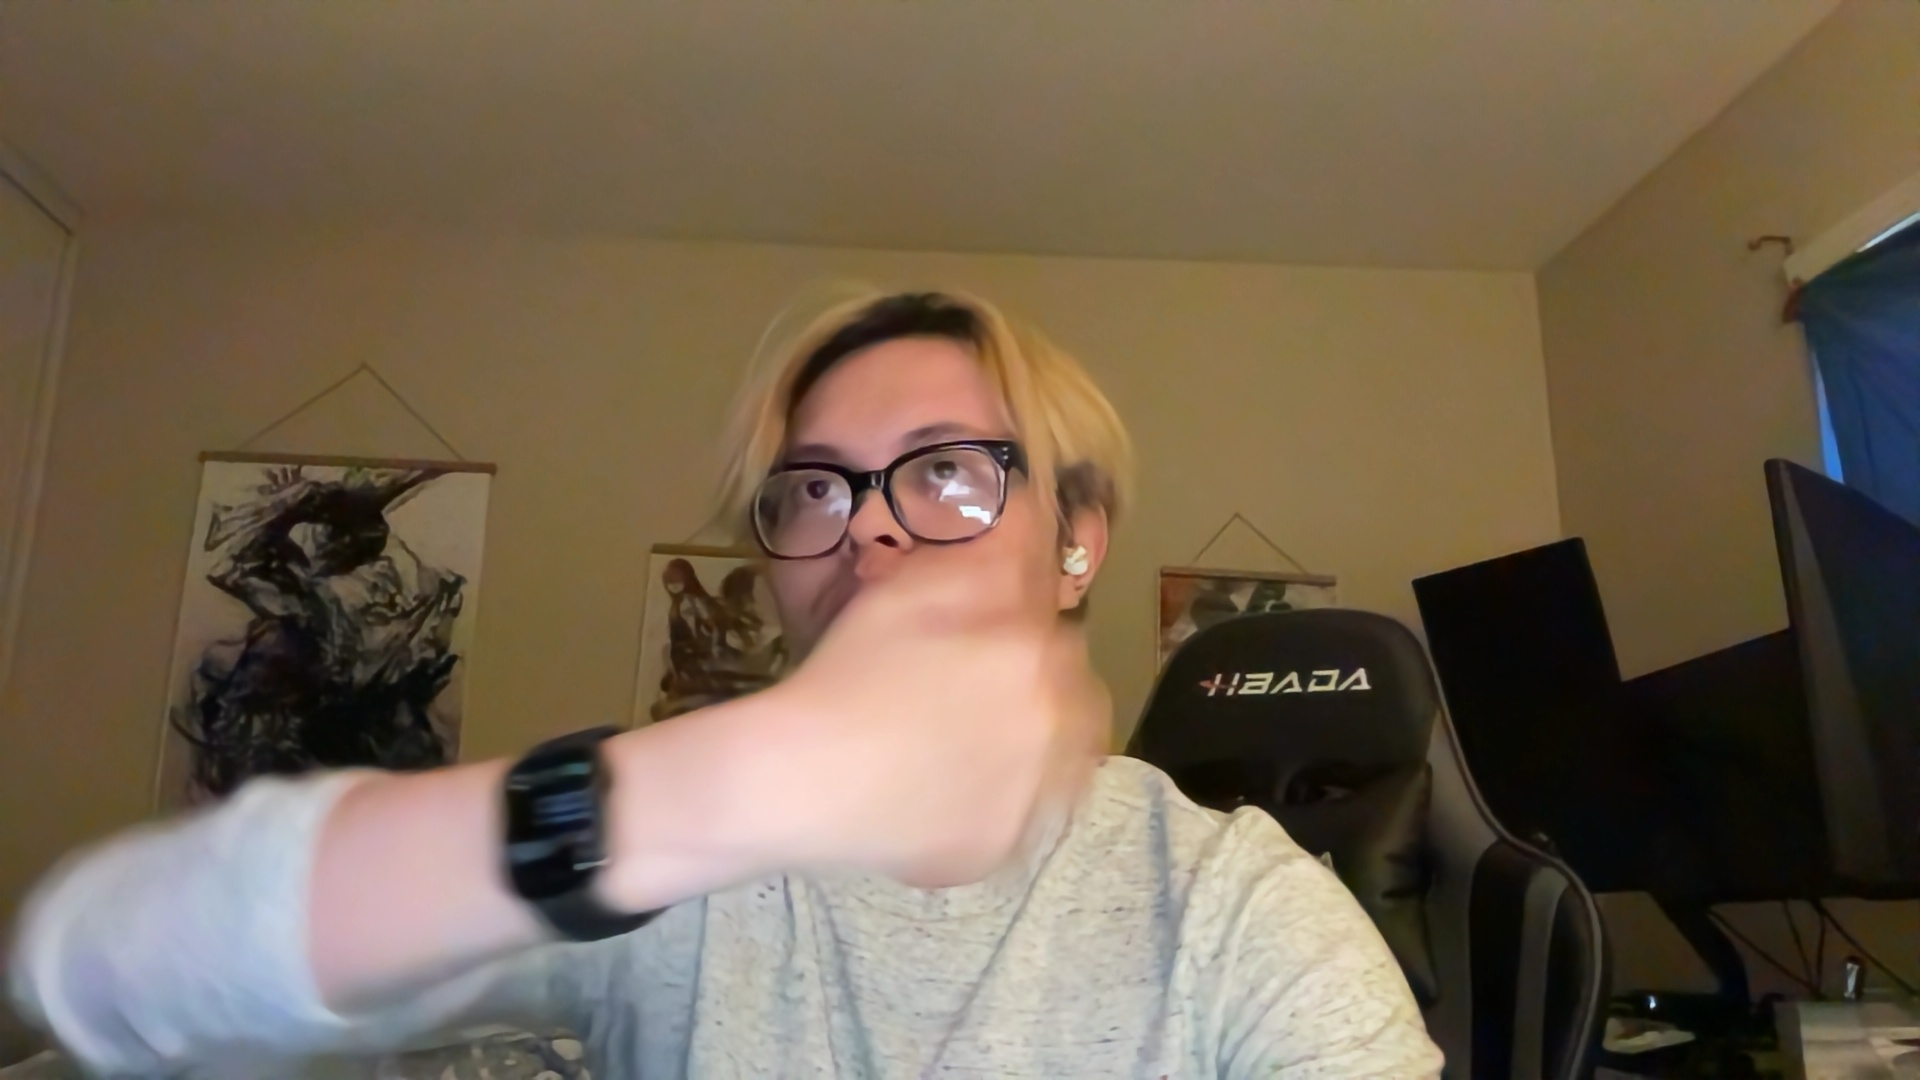watch: (492, 720, 667, 942)
